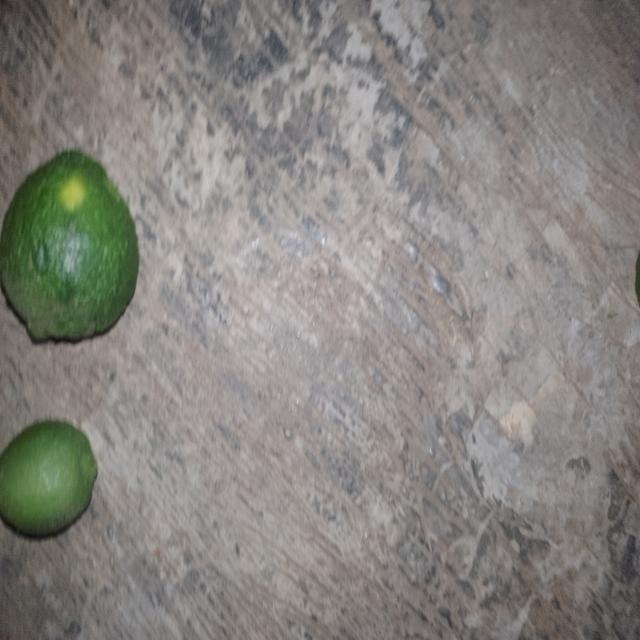agrume: (0, 139, 142, 353), (3, 394, 99, 556)
